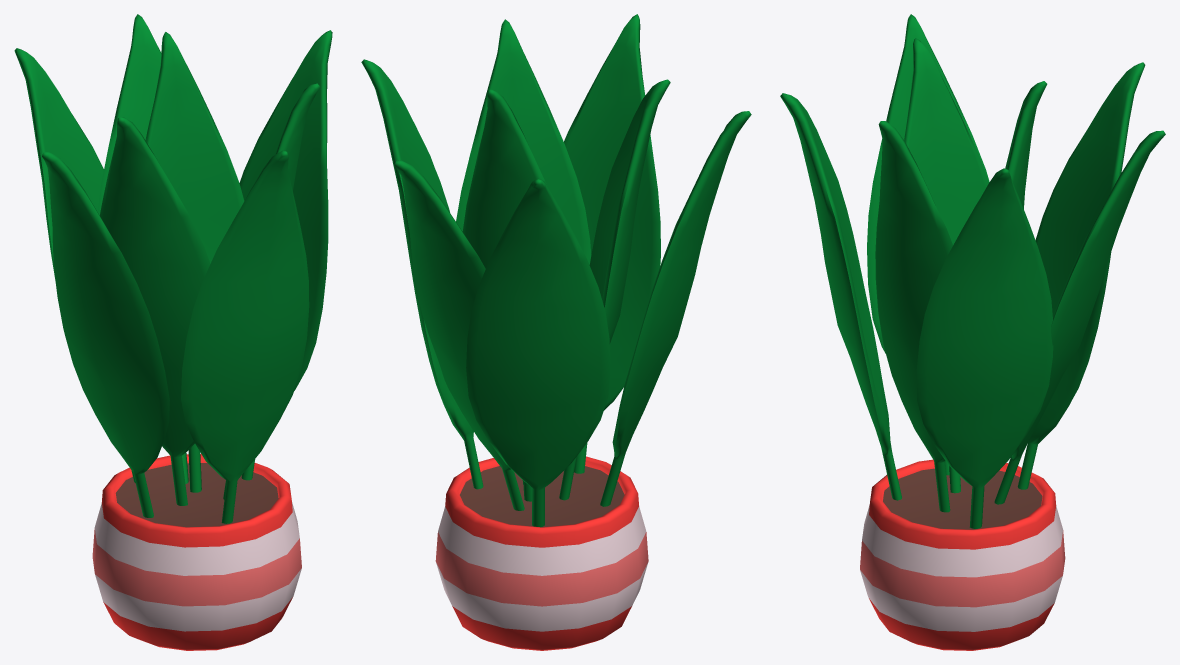
The model's file is Farm_6_Plant_1.glb.
3 renders of one model, left to right at view 1: azimuth 30°, elevation 25°; view 2: azimuth 150°, elevation 25°; view 3: azimuth 270°, elevation 25°, orthographic. The views are drawn at different scales.
Parts seen in each view (by area): view 1: Farm_6_Plant_1; view 2: Farm_6_Plant_1; view 3: Farm_6_Plant_1.
Part boxes in pixels (x1=…): Farm_6_Plant_1: x1=14, y1=14, x2=332, y2=650; Farm_6_Plant_1: x1=361, y1=14, x2=751, y2=650; Farm_6_Plant_1: x1=780, y1=14, x2=1165, y2=650.
Size of the model in its own units: 1.01 by 1.58 by 1.01.
1 material, 1 textured.
